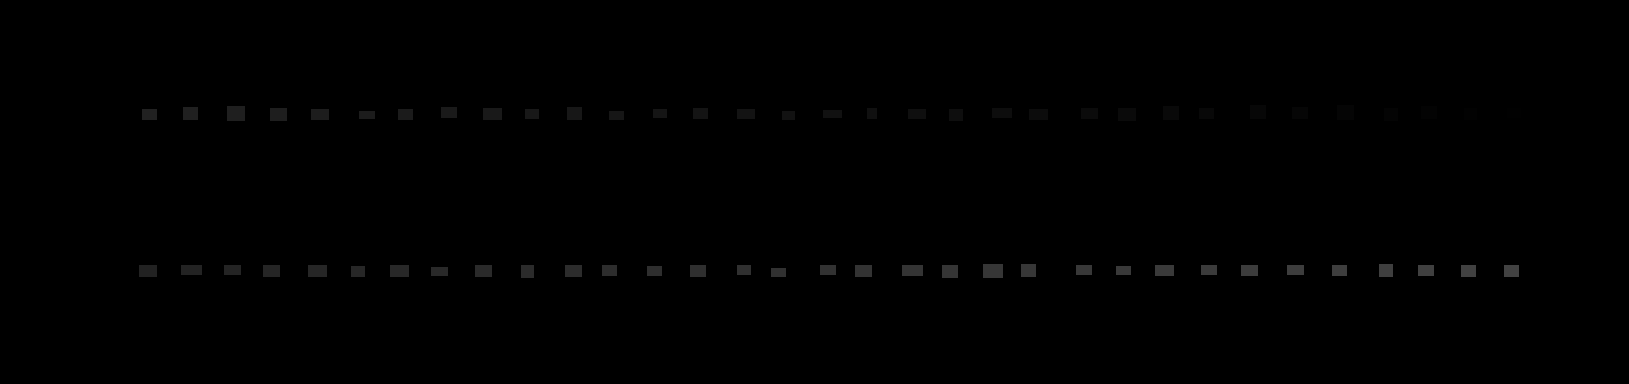light: (226, 106, 245, 121), (983, 264, 1003, 278), (1337, 105, 1354, 120), (308, 265, 327, 277), (390, 265, 409, 277), (1250, 105, 1266, 119), (1163, 106, 1179, 120), (1118, 108, 1136, 121), (902, 265, 923, 276), (483, 108, 502, 120), (1029, 109, 1048, 120), (270, 108, 287, 121), (139, 265, 157, 277), (263, 265, 281, 277), (475, 265, 492, 277), (181, 265, 202, 275), (311, 109, 329, 120), (1155, 265, 1174, 276), (1421, 106, 1437, 119), (183, 107, 198, 120), (942, 265, 958, 278), (565, 265, 582, 277), (690, 265, 706, 277), (855, 265, 872, 277), (992, 108, 1012, 118), (1384, 108, 1398, 121), (567, 107, 582, 120), (1021, 264, 1036, 277), (1379, 264, 1393, 277), (1292, 107, 1308, 119), (737, 109, 755, 119), (1461, 265, 1476, 277), (1081, 108, 1098, 119), (440, 107, 457, 118), (1241, 265, 1258, 276), (908, 109, 926, 119), (520, 265, 534, 278), (949, 109, 963, 121), (1504, 265, 1519, 277), (1199, 108, 1214, 119), (398, 109, 413, 120), (602, 265, 617, 276), (1332, 265, 1347, 276), (1418, 265, 1434, 276), (224, 265, 241, 275), (820, 265, 836, 275), (1287, 265, 1304, 275), (1464, 108, 1477, 120), (693, 108, 707, 119), (142, 109, 157, 120), (1076, 265, 1092, 275), (1201, 265, 1217, 275), (823, 110, 842, 118), (431, 267, 448, 276), (351, 266, 365, 277), (525, 109, 539, 119), (647, 266, 662, 276), (737, 265, 751, 275), (609, 111, 624, 120), (771, 268, 786, 277), (1116, 266, 1131, 275), (1507, 108, 1521, 118), (359, 111, 375, 119), (653, 109, 667, 118), (782, 111, 795, 120), (867, 108, 877, 119)
